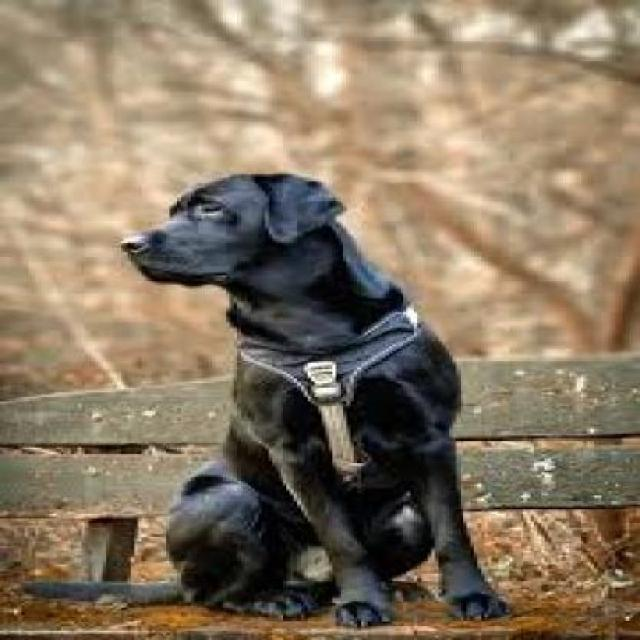animals: (111, 168, 527, 617)
